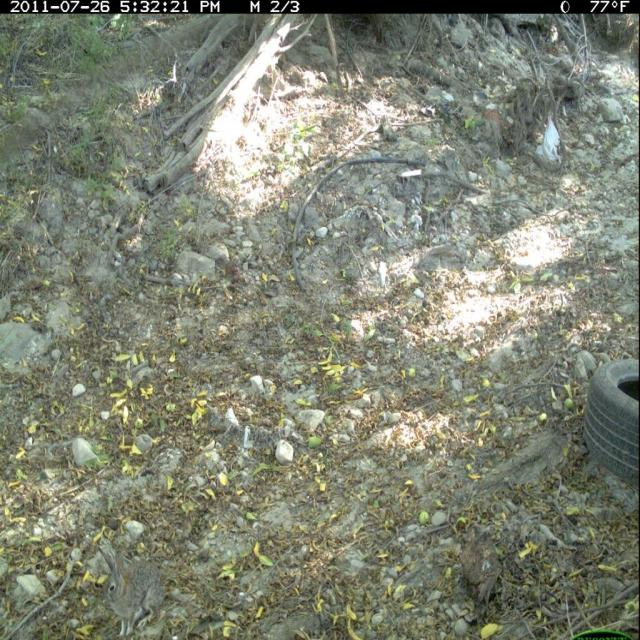rabbit: (84, 525, 187, 640)
